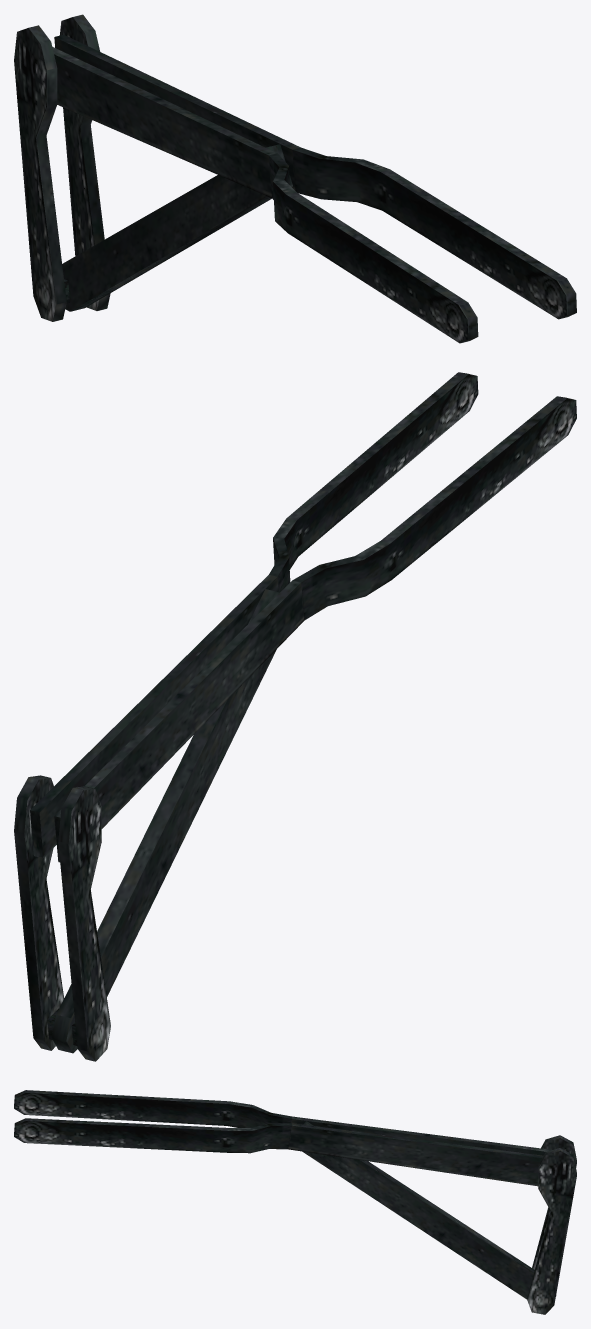
Rendered from wp_carbine_e11_stock_open_l0.fbx.
3 renders of one model, top to bottom at view 1: azimuth 30°, elevation 25°; view 2: azimuth 150°, elevation 25°; view 3: azimuth 270°, elevation 25°, orthographic. The views are drawn at different scales.
Visible parts, largest first — view 1: mesh_node; view 2: mesh_node; view 3: mesh_node.
Boxes of the visible parts, x1=… form: mesh_node: x1=14, y1=14, x2=576, y2=343; mesh_node: x1=14, y1=372, x2=576, y2=1061; mesh_node: x1=14, y1=1090, x2=576, y2=1314.
Size of the model in its own units: 0.0452 by 0.1371 by 0.3471.
Materials: 1 (1 with a texture image).
